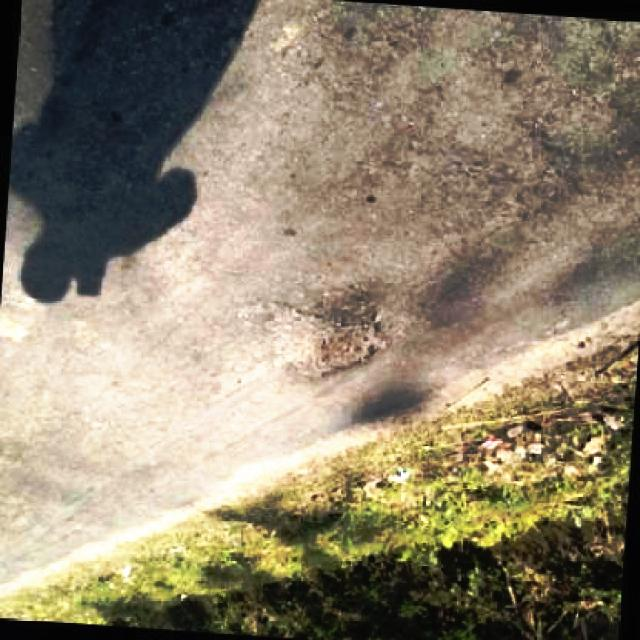pothole: (251, 291, 383, 383)
